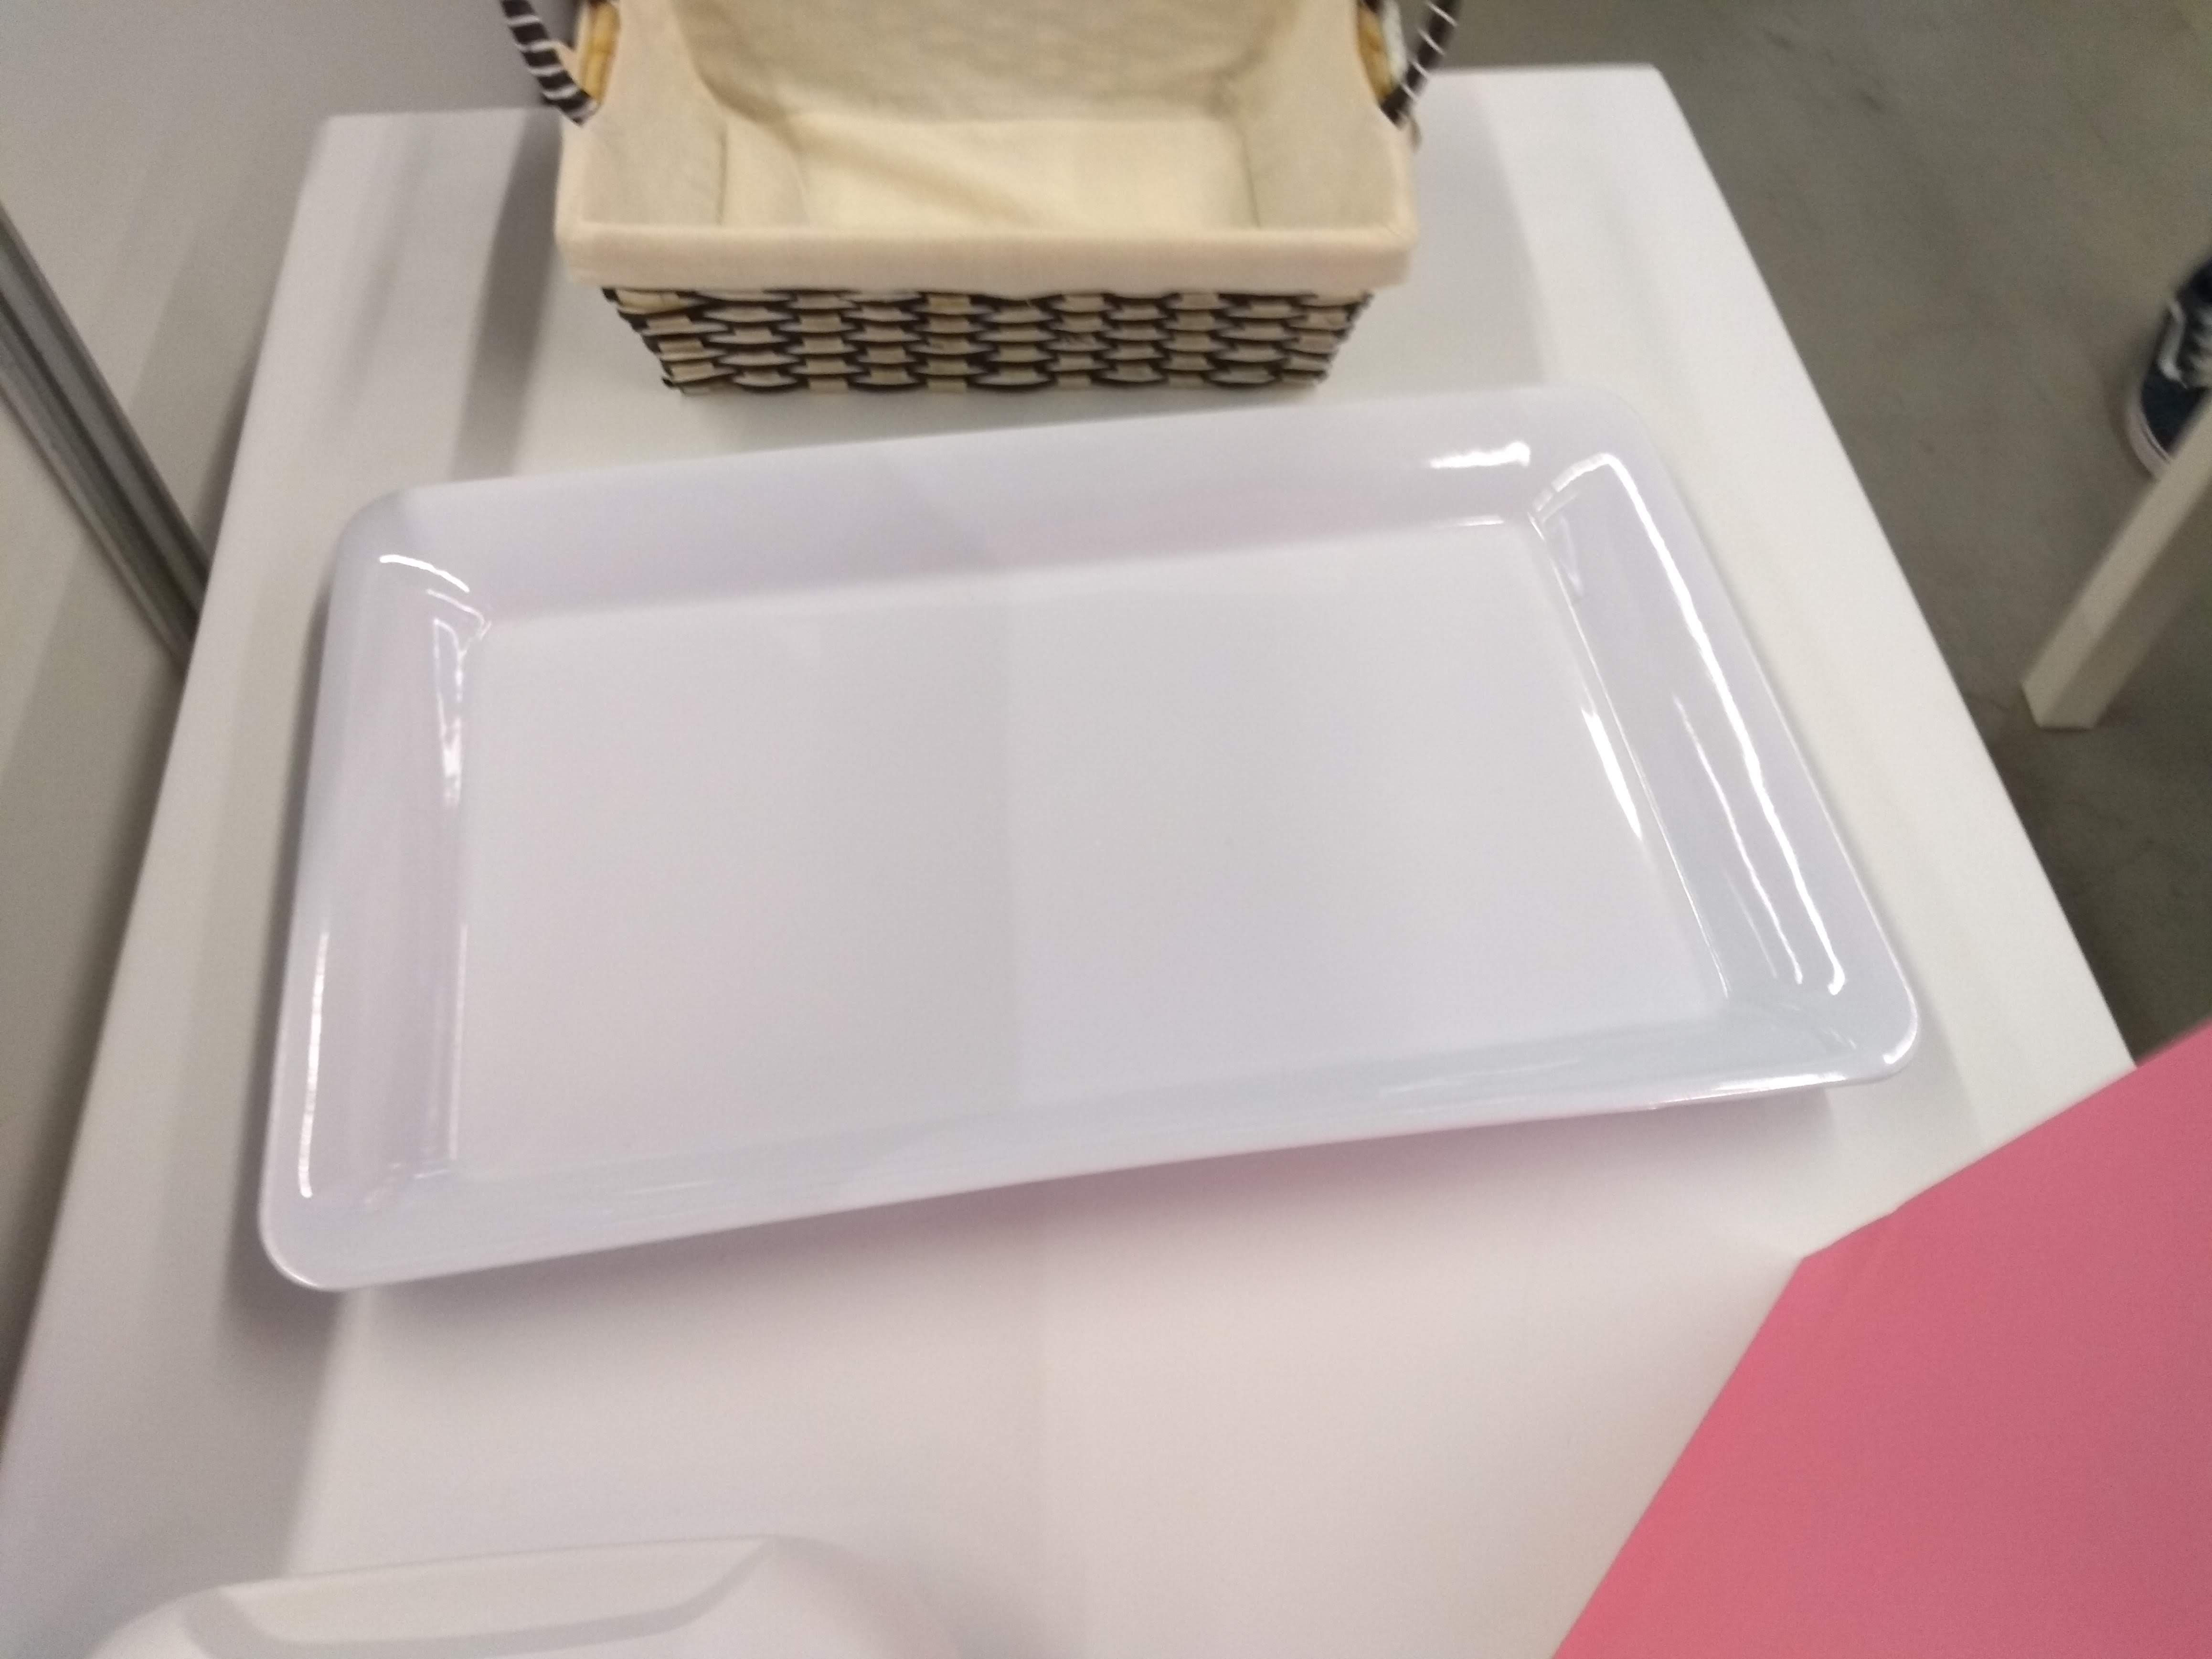basket: (519, 0, 1460, 415)
tray: (251, 382, 1947, 1323)
